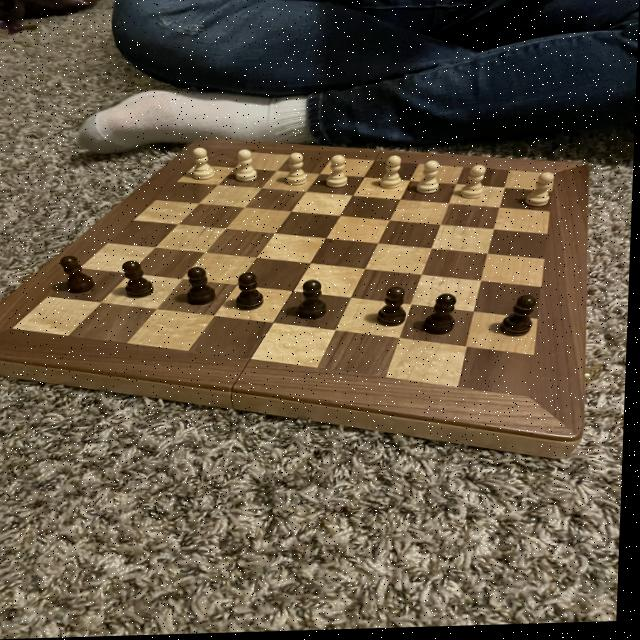black-knight: (421, 294, 465, 342), (501, 296, 541, 343), (59, 253, 101, 297), (119, 257, 159, 302), (374, 286, 413, 332), (182, 266, 221, 310), (234, 270, 272, 315), (297, 280, 333, 325)
white-knight: (523, 173, 559, 214), (460, 165, 494, 203), (323, 155, 353, 194), (378, 155, 407, 195), (190, 147, 221, 184), (234, 148, 263, 187), (417, 161, 444, 199), (285, 153, 313, 189)
